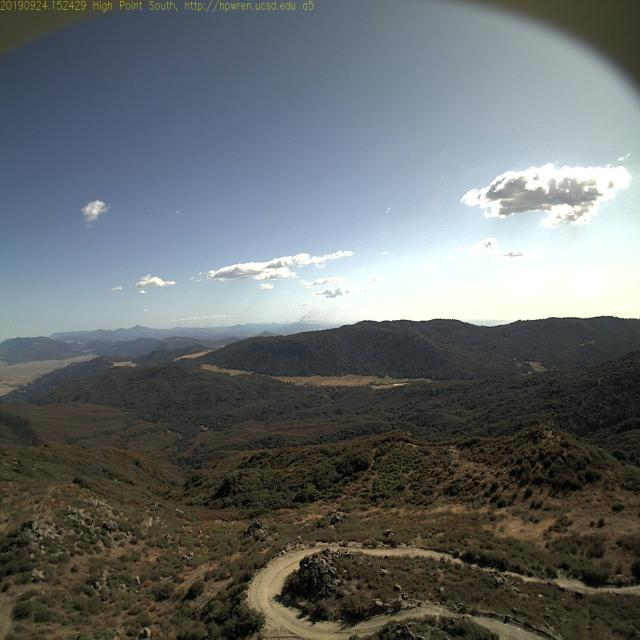smoke: (296, 308, 317, 325)
